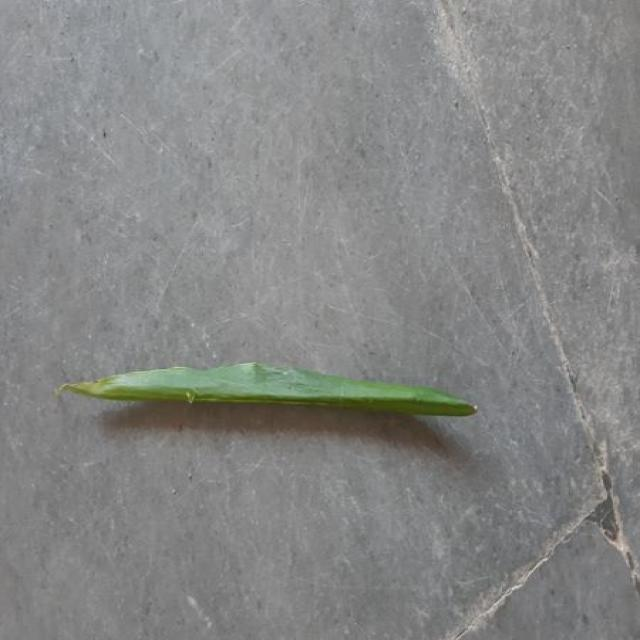ginger: (58, 361, 477, 416)
